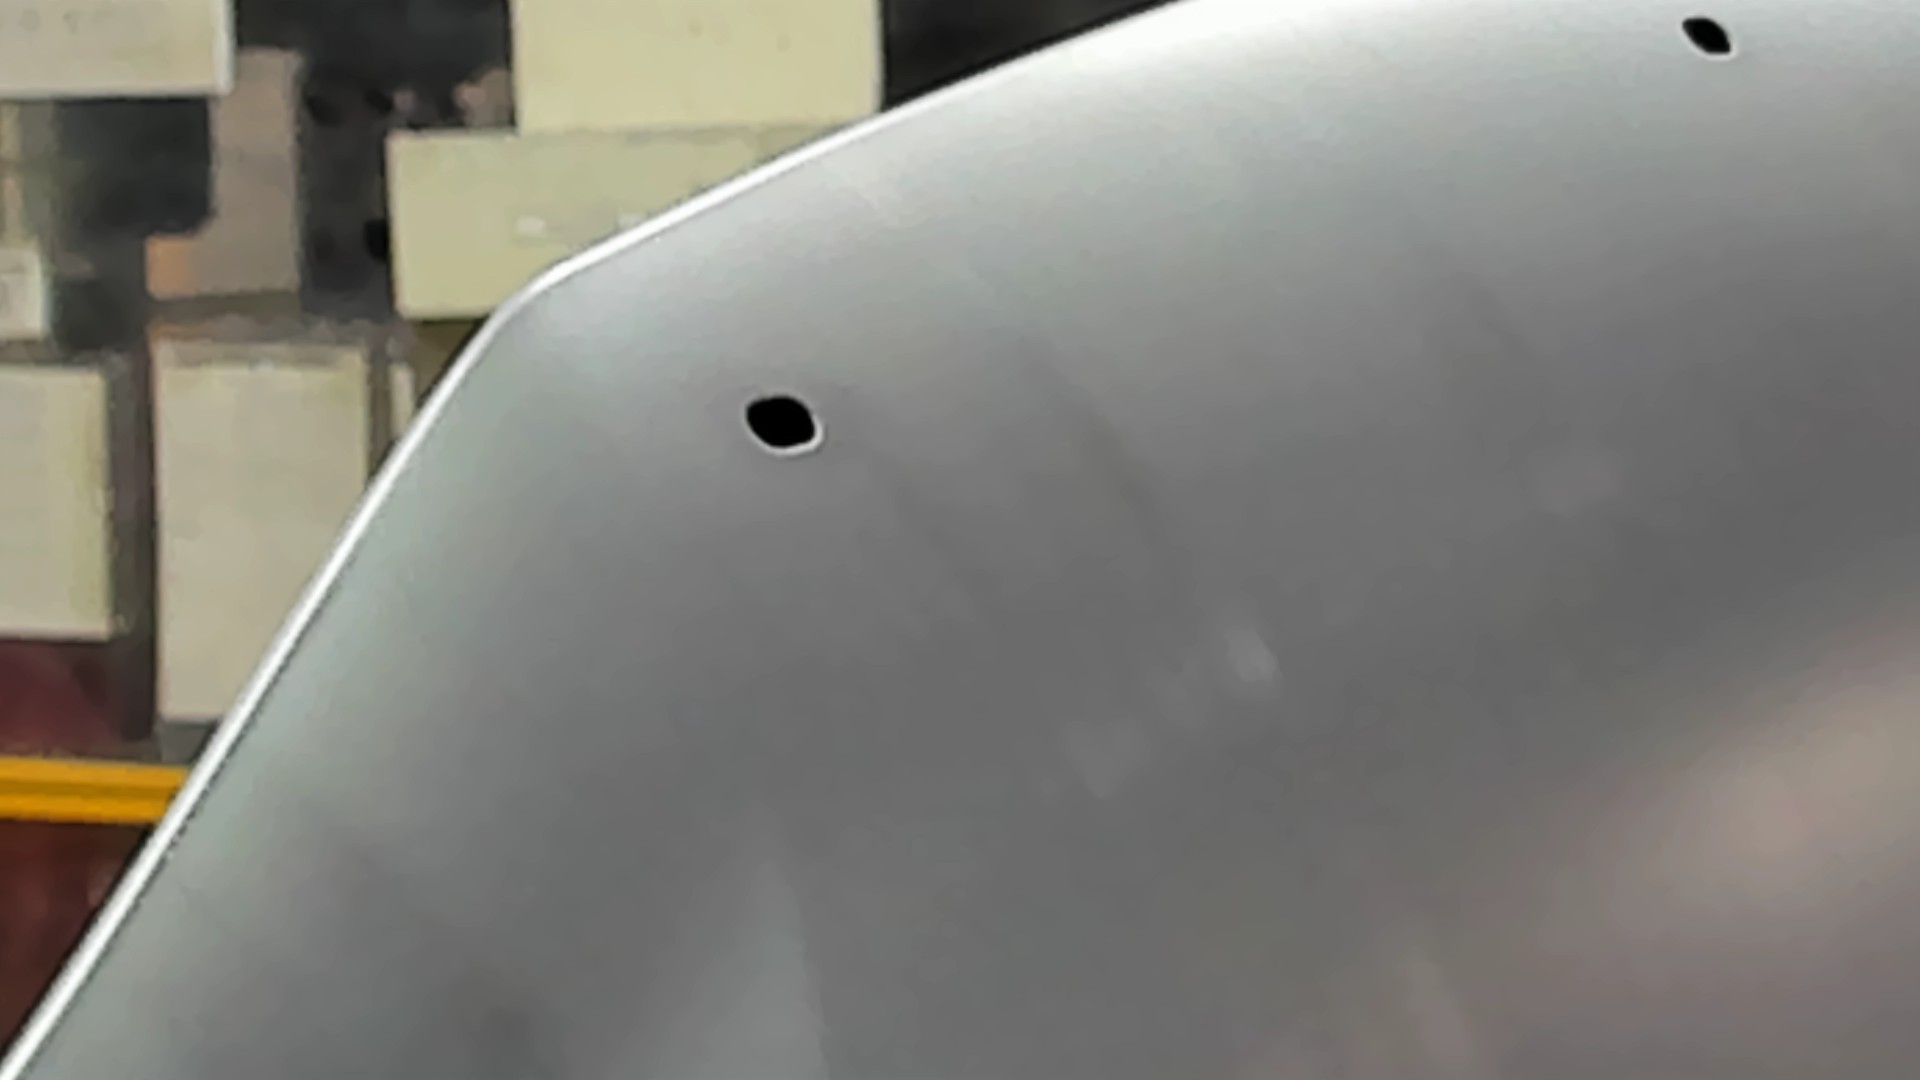amorfo: (733, 392, 832, 464), (1677, 7, 1738, 65)
capo: (916, 153, 1920, 1080)
